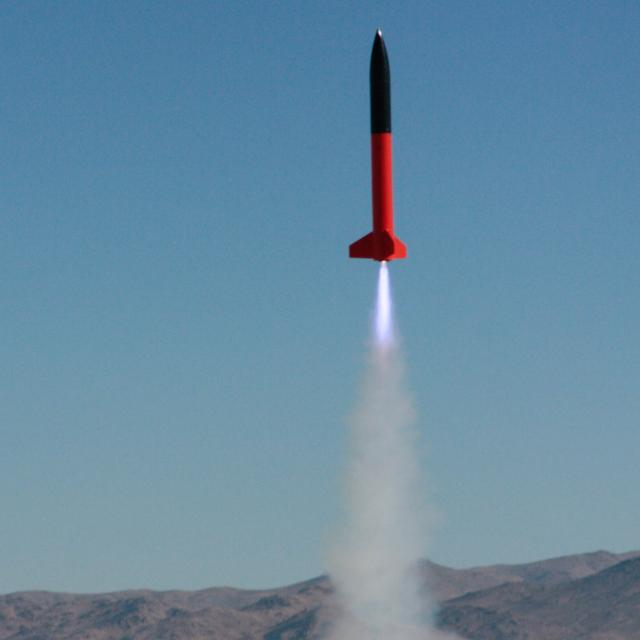Rocket: (348, 27, 411, 265)
